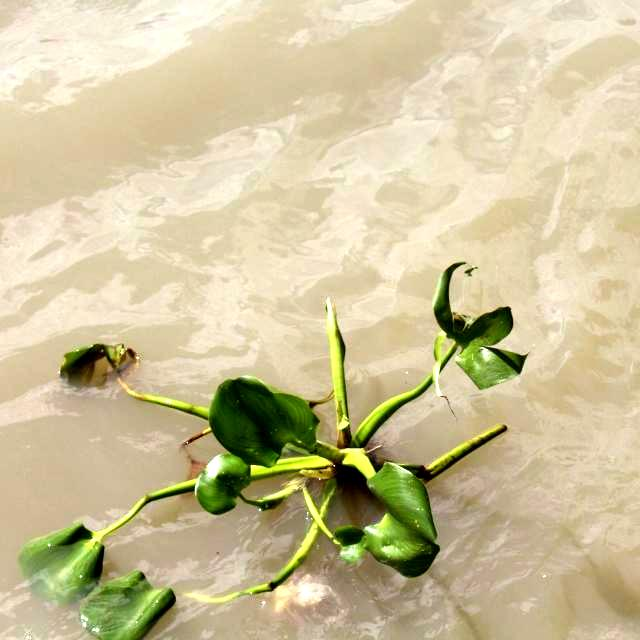water-hyacinth: (1, 259, 542, 640)
